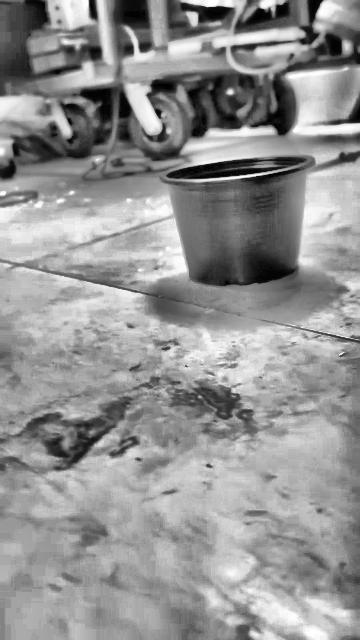pot: (159, 154, 315, 286)
